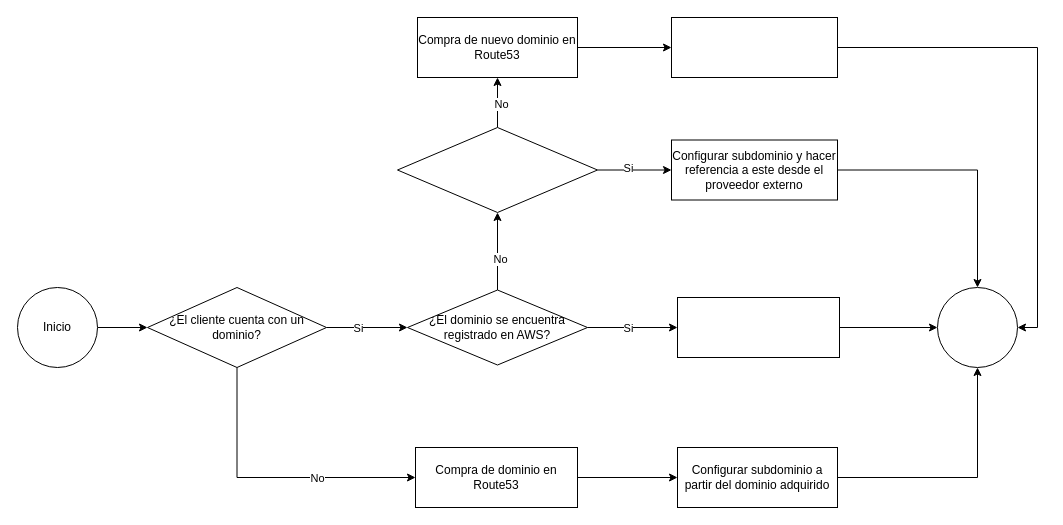
Image size: 1063x525. Some labels were removed from this diagram. The centre of each missing label's shape, as x and y in pixels:
"Configuración de subdominio a partir del nuevo dominio adquirido" belongs at (x=754, y=47).
"Configurar subdominio a partir del dominio ya existente" belongs at (x=758, y=327).
"Fin" belongs at (x=977, y=327).
"¿El proveedor dominio externo es apto para configurar?" belongs at (x=497, y=169).
